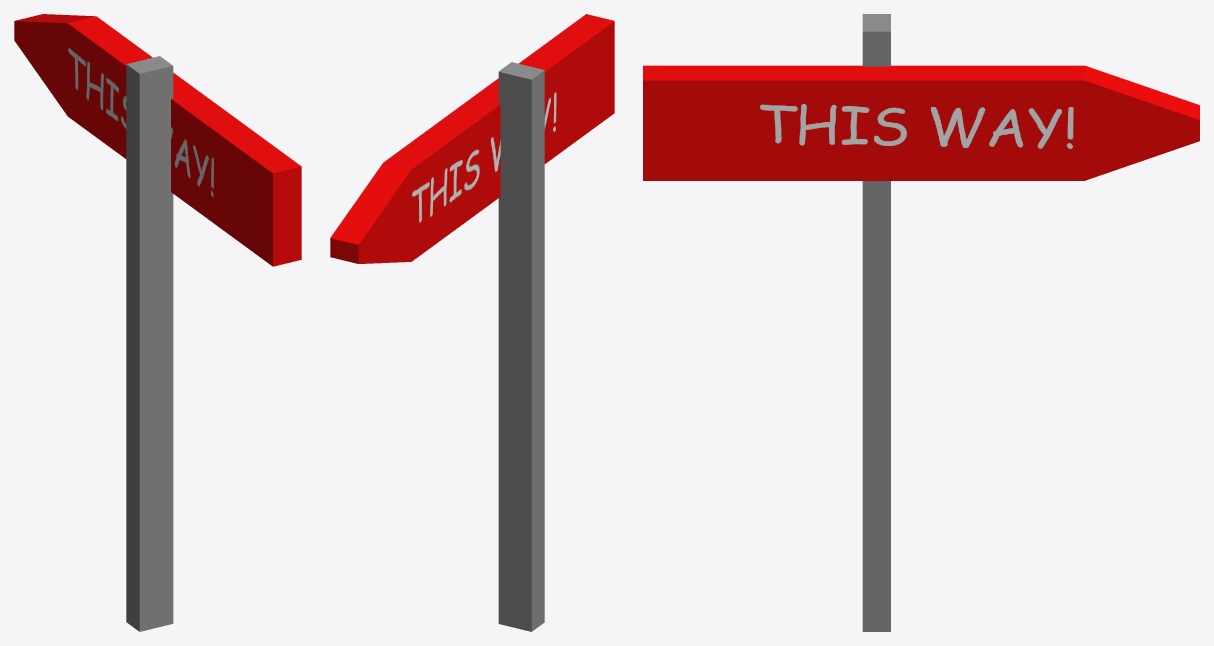
Rendered from sign and post.FBX.
3 renders of one model, left to right at view 1: azimuth 30°, elevation 25°; view 2: azimuth 150°, elevation 25°; view 3: azimuth 270°, elevation 25°, orthographic. The views are drawn at different scales.
Visible parts, largest first — view 1: Box001, Box002; view 2: Box001, Box002; view 3: Box002, Box001.
Part boxes in pixels (box(x1,y1,x2,y2)): Box001: box(126, 56, 173, 631); Box002: box(14, 14, 301, 266); Box001: box(498, 62, 544, 631); Box002: box(330, 14, 614, 263); Box002: box(643, 65, 1199, 180); Box001: box(862, 14, 890, 631).
Bounding box in the file's own units: 1.76 × 15.64 × 13.15.
2 materials, 1 textured.
